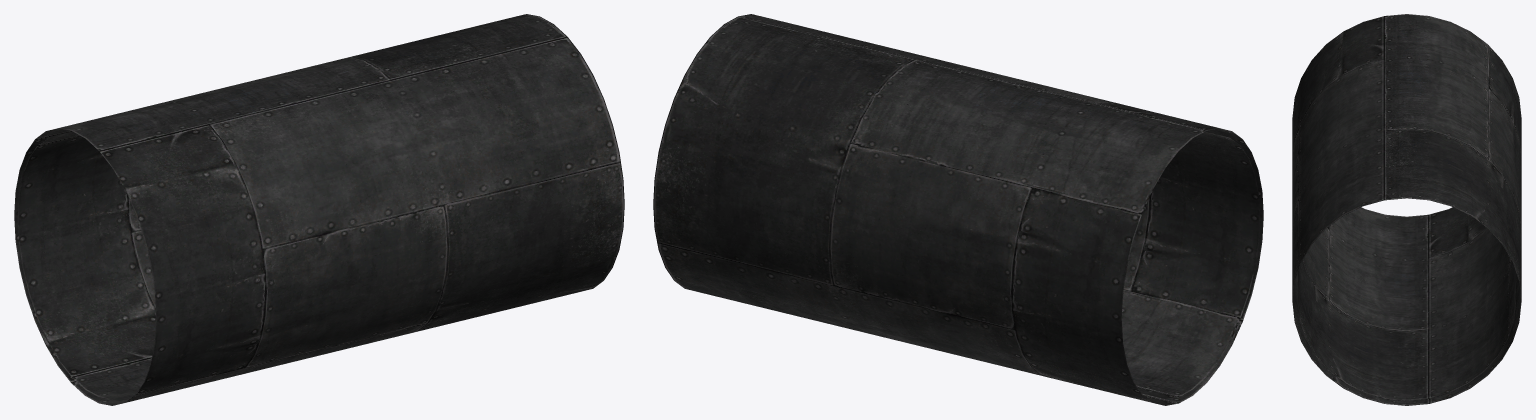
File: engineroom_largepipe_straight_vanilla.dae
3 renders of one model, left to right at view 1: azimuth 30°, elevation 25°; view 2: azimuth 150°, elevation 25°; view 3: azimuth 270°, elevation 25°, orthographic. The views are drawn at different scales.
Parts seen in each view (by area): view 1: pCylinder21; view 2: pCylinder21; view 3: pCylinder21.
Boxes of the visible parts, left/top/right/bottom form: pCylinder21: left=14, top=14, right=624, bottom=405; pCylinder21: left=653, top=14, right=1263, bottom=405; pCylinder21: left=1292, top=14, right=1521, bottom=405.
Size of the model in its own units: 600 by 315 by 315.
